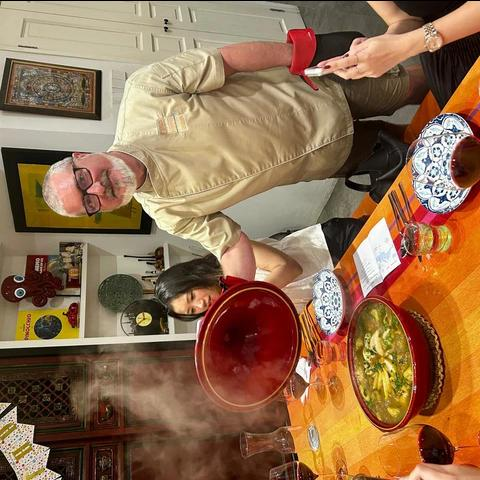controlled_fire: (62, 317, 449, 434)
